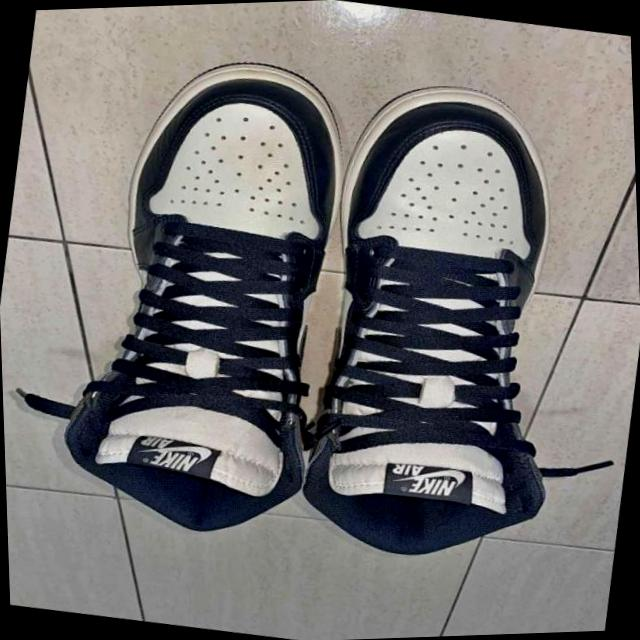nike_original_jordan: (273, 64, 612, 587), (36, 35, 378, 550)
